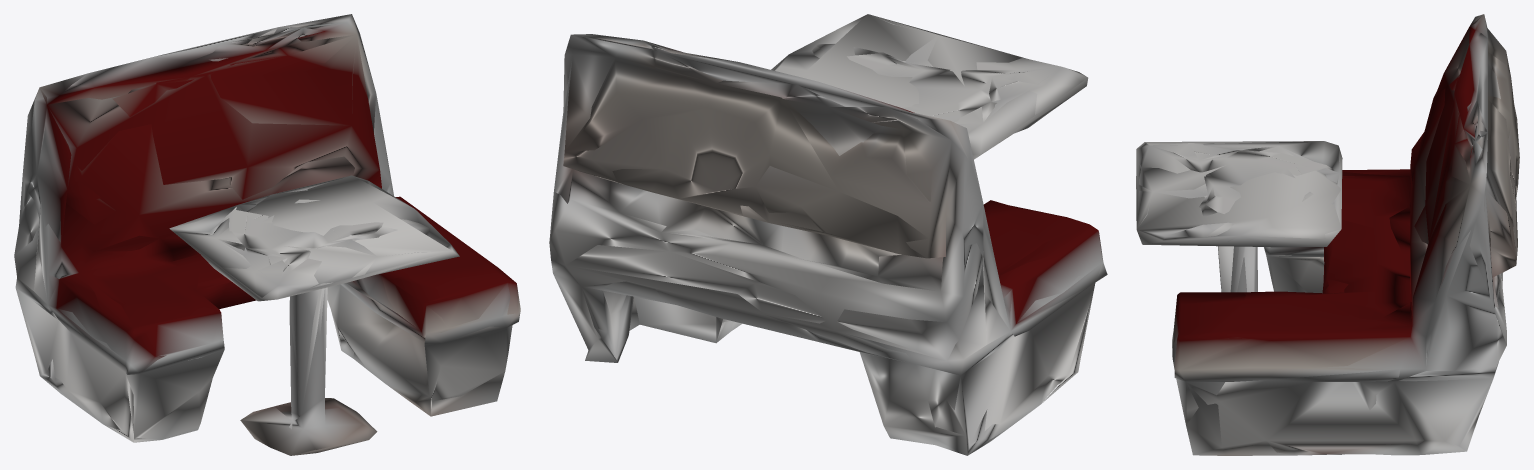
The model's file is gen3d-diner-booth-lod0.glb.
3 views of the same model, side by side, from view 1: azimuth 30°, elevation 25°; view 2: azimuth 150°, elevation 25°; view 3: azimuth 270°, elevation 25° (orthographic). The views are drawn at different scales.
Visible parts, largest first — view 1: part_0; view 2: part_0; view 3: part_0.
Boxes of the visible parts, x1,y1,x2,y2 form: part_0: (14, 14, 520, 455); part_0: (549, 14, 1107, 455); part_0: (1136, 14, 1519, 455).
Size of the model in its own units: 1.24 by 0.9898 by 1.16.
